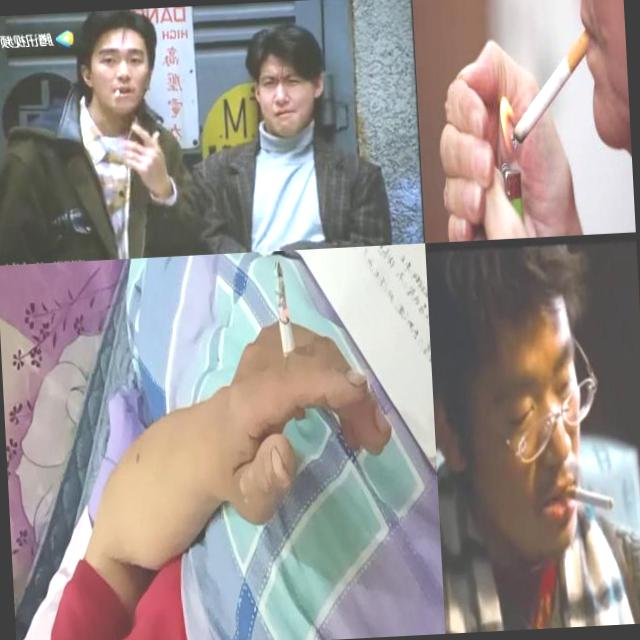cigarette: (434, 29, 604, 240), (272, 259, 308, 424), (553, 478, 618, 519), (110, 83, 126, 100)
